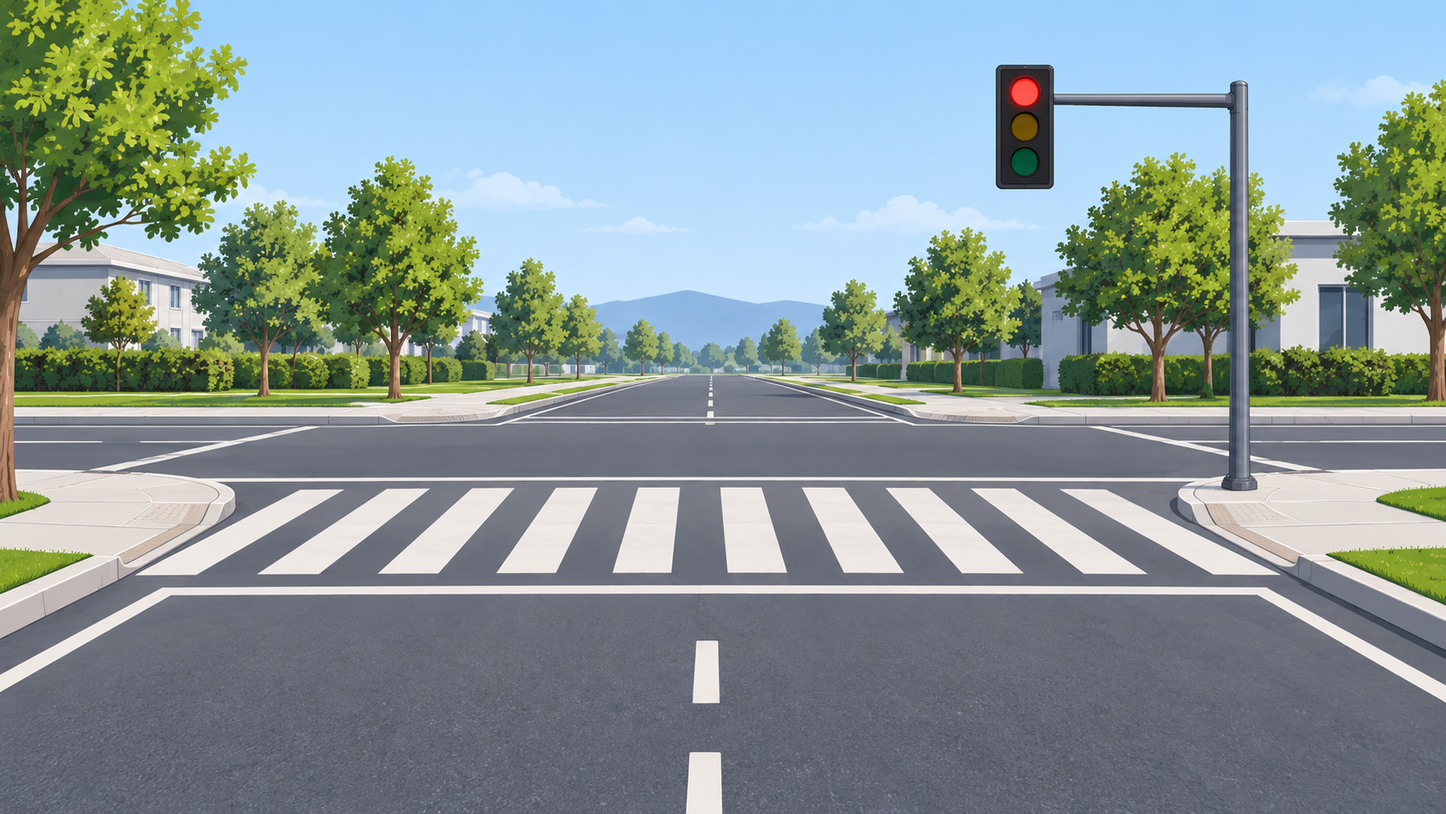traffic_light: (995, 65, 1053, 189)
zebra_crossing: (0, 485, 1446, 595)
